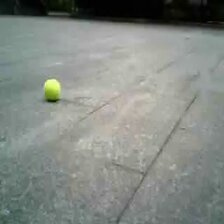tennis: (44, 79, 61, 100)
